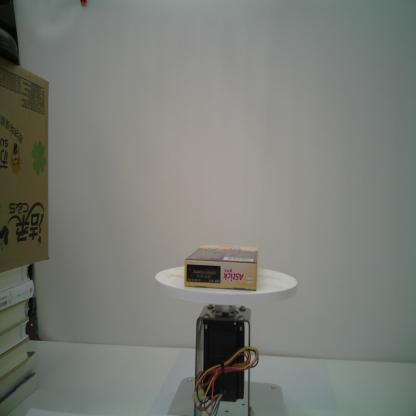Dessert: (183, 242, 260, 292)
